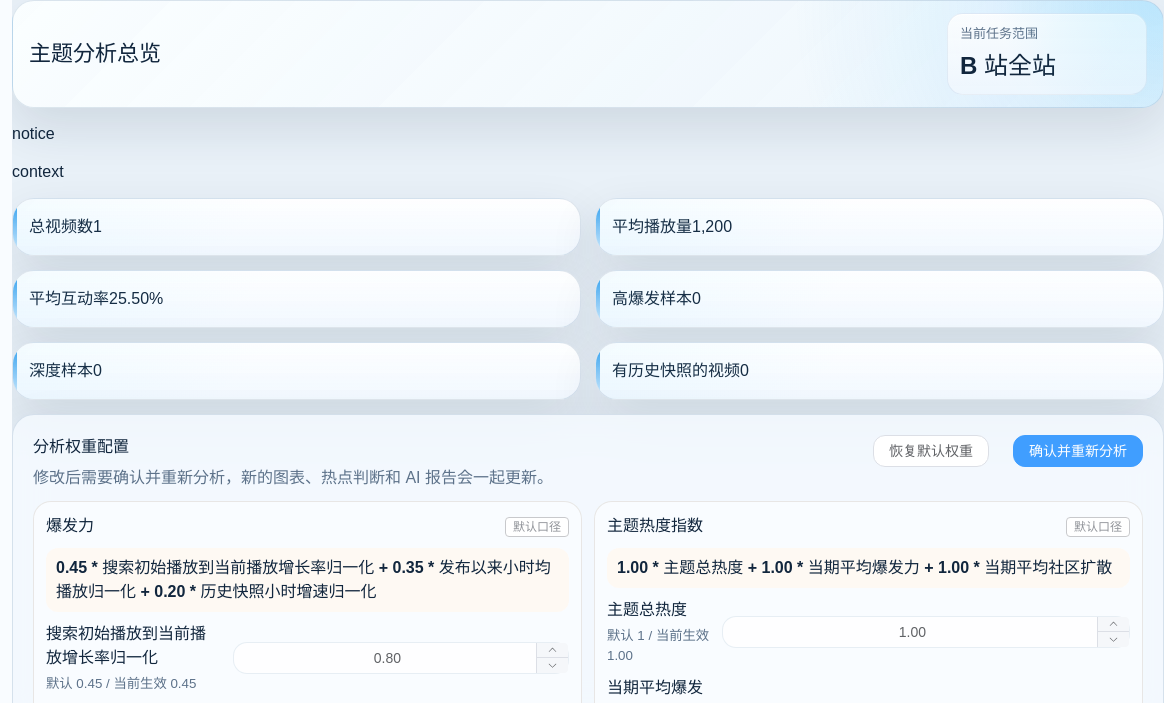
Test case: TopicAnalysisView › submits updated metric weights after confirmation and refreshes analysis output
The width and height of the screenshot is (1164, 703).
Click the button with test id "metric-weight-submit-button": x=1078, y=450 [1013,434,1143,466]
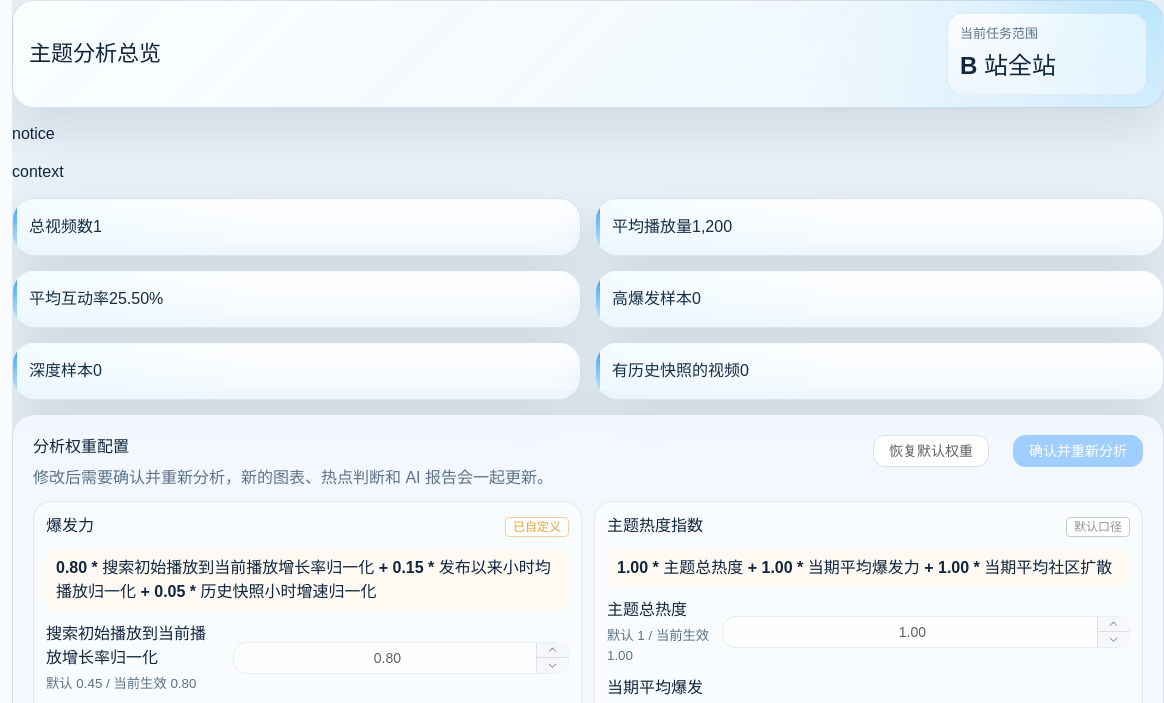
Expected: the text "0.80 * 搜索初始播放到当前播放增长率归一化" is shown, [56,559,551,600]
Expected: the text "已自定义" is shown, [513,521,561,533]
